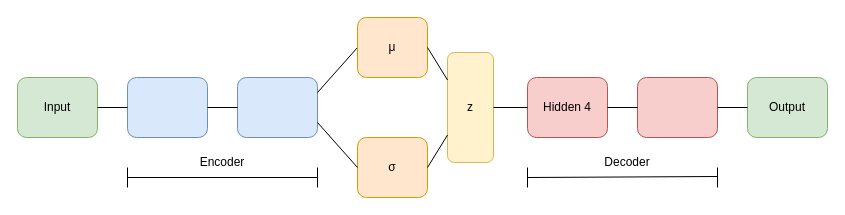
Image size: 845x215. Some labels were removed from this diagram. Here are the shapes that lost their labels. From the top down, the box of each, then its label:
(126, 76, 208, 138): Hidden 1
(236, 76, 318, 138): Hidden 2
(636, 76, 718, 138): Hidden 5
